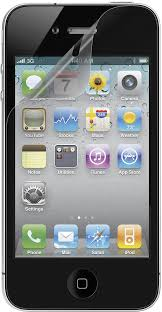iphone4: (1, 1, 162, 312)
